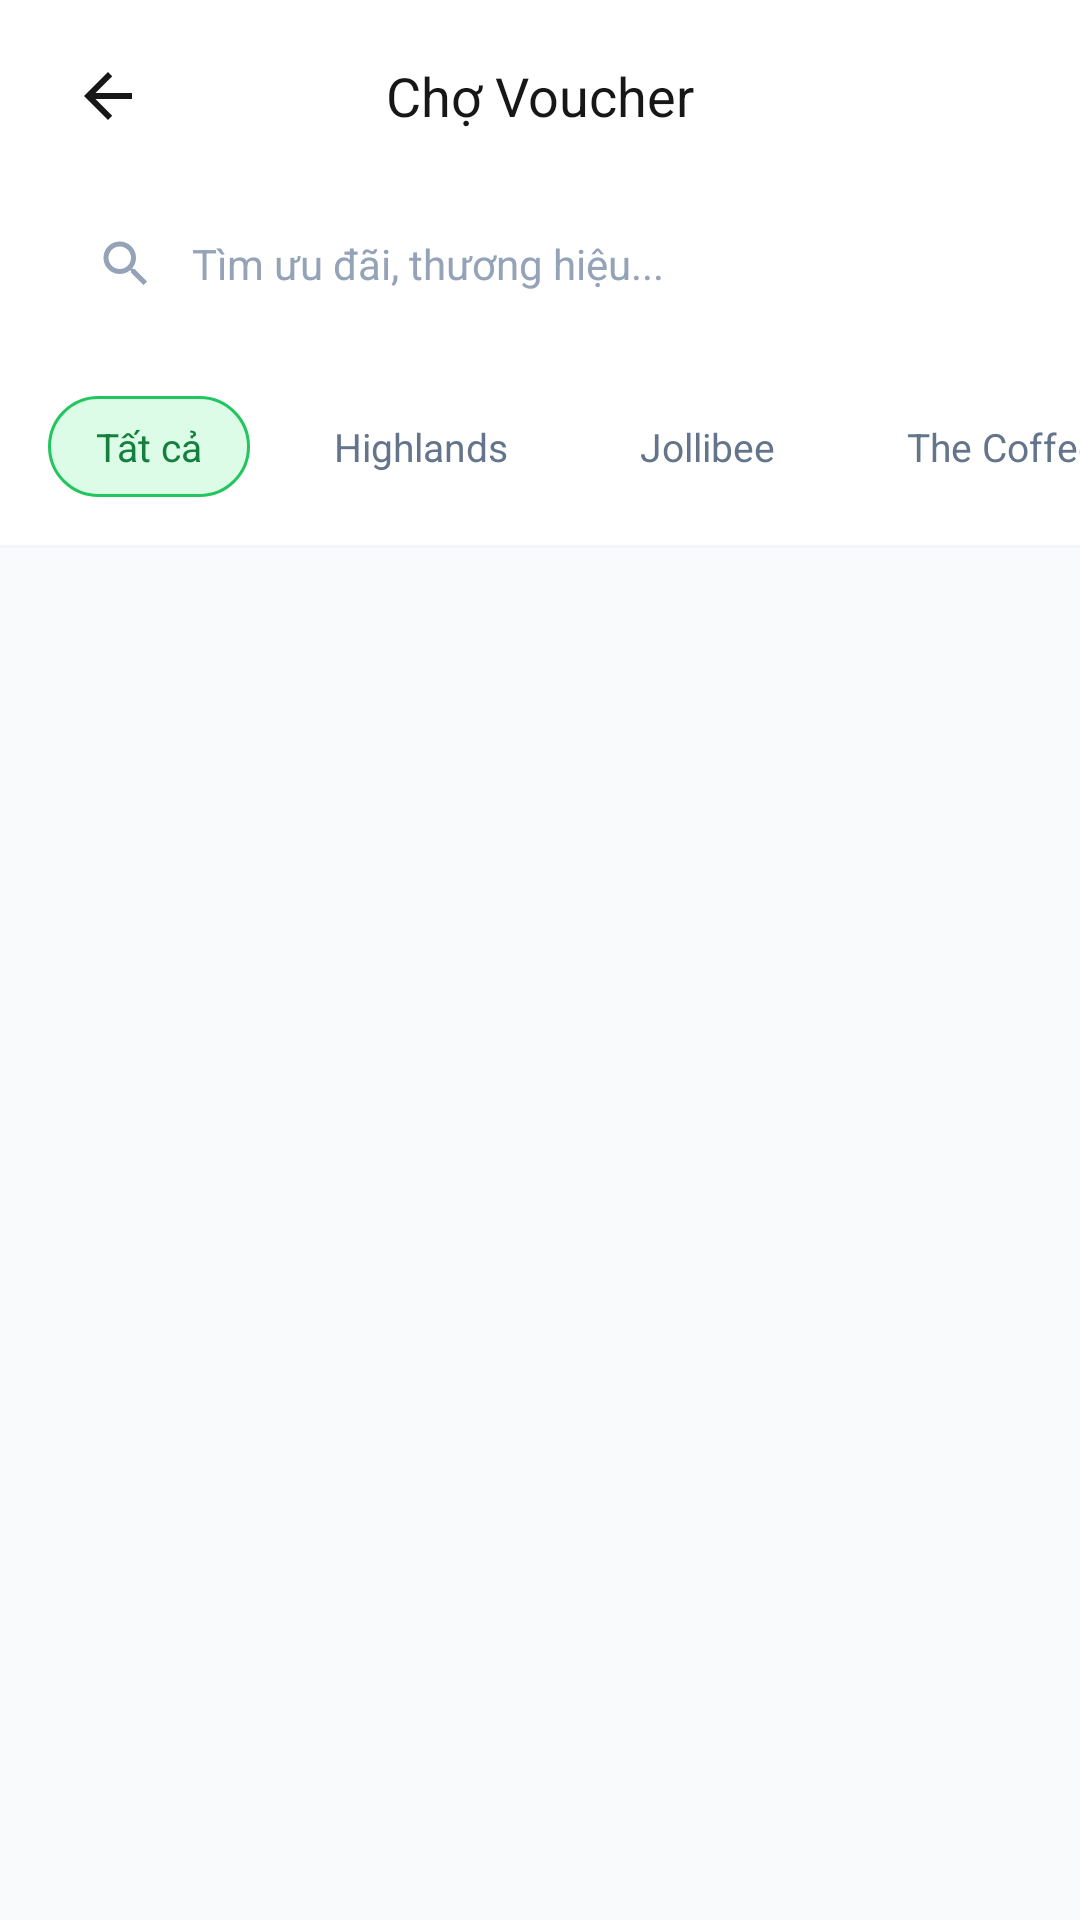

Icons on this 1080px×1920px Android screen, each with the point to tap as [x,y]:
arrow back: [108,96]
search: [125,263]
